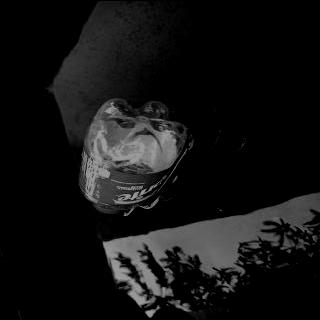bottle: (75, 96, 196, 214)
